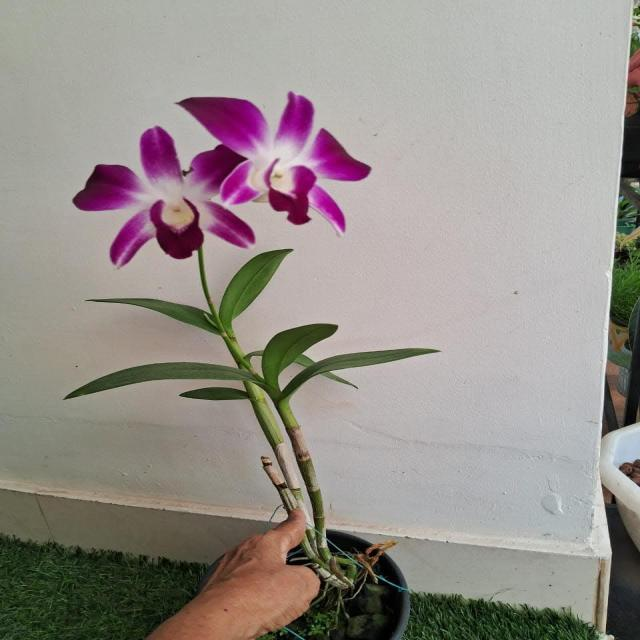flower: (179, 97, 268, 157), (269, 165, 345, 231), (73, 164, 146, 210), (111, 204, 156, 266), (202, 201, 255, 247)
leaf: (281, 349, 433, 403), (71, 362, 252, 396), (218, 249, 291, 329), (263, 323, 337, 382), (94, 299, 217, 334)
plant: (17, 80, 439, 638)
pot: (277, 528, 425, 639)
